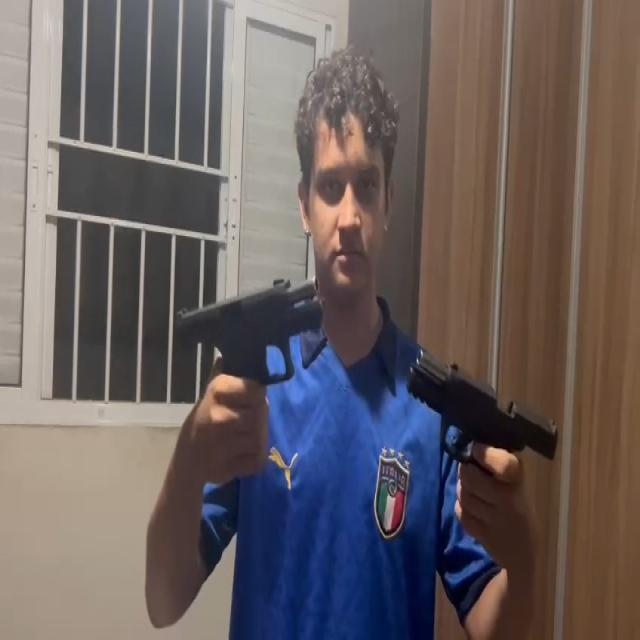gun: (404, 343, 558, 461), (175, 270, 326, 376)
